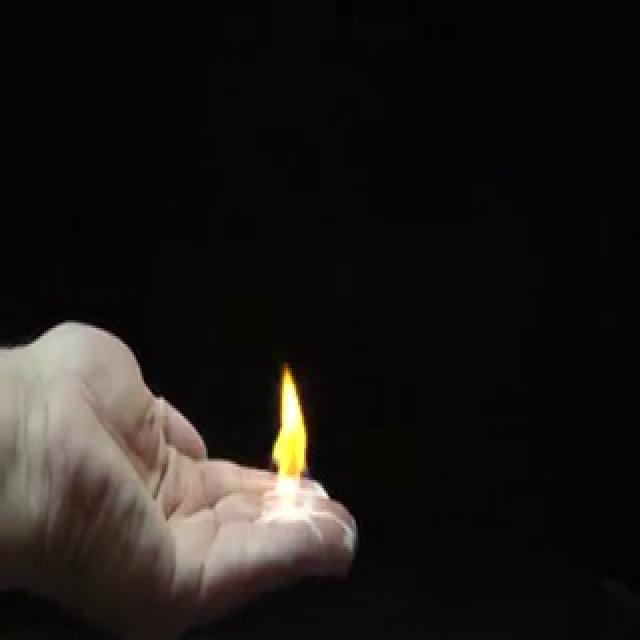fire: (260, 351, 315, 524)
